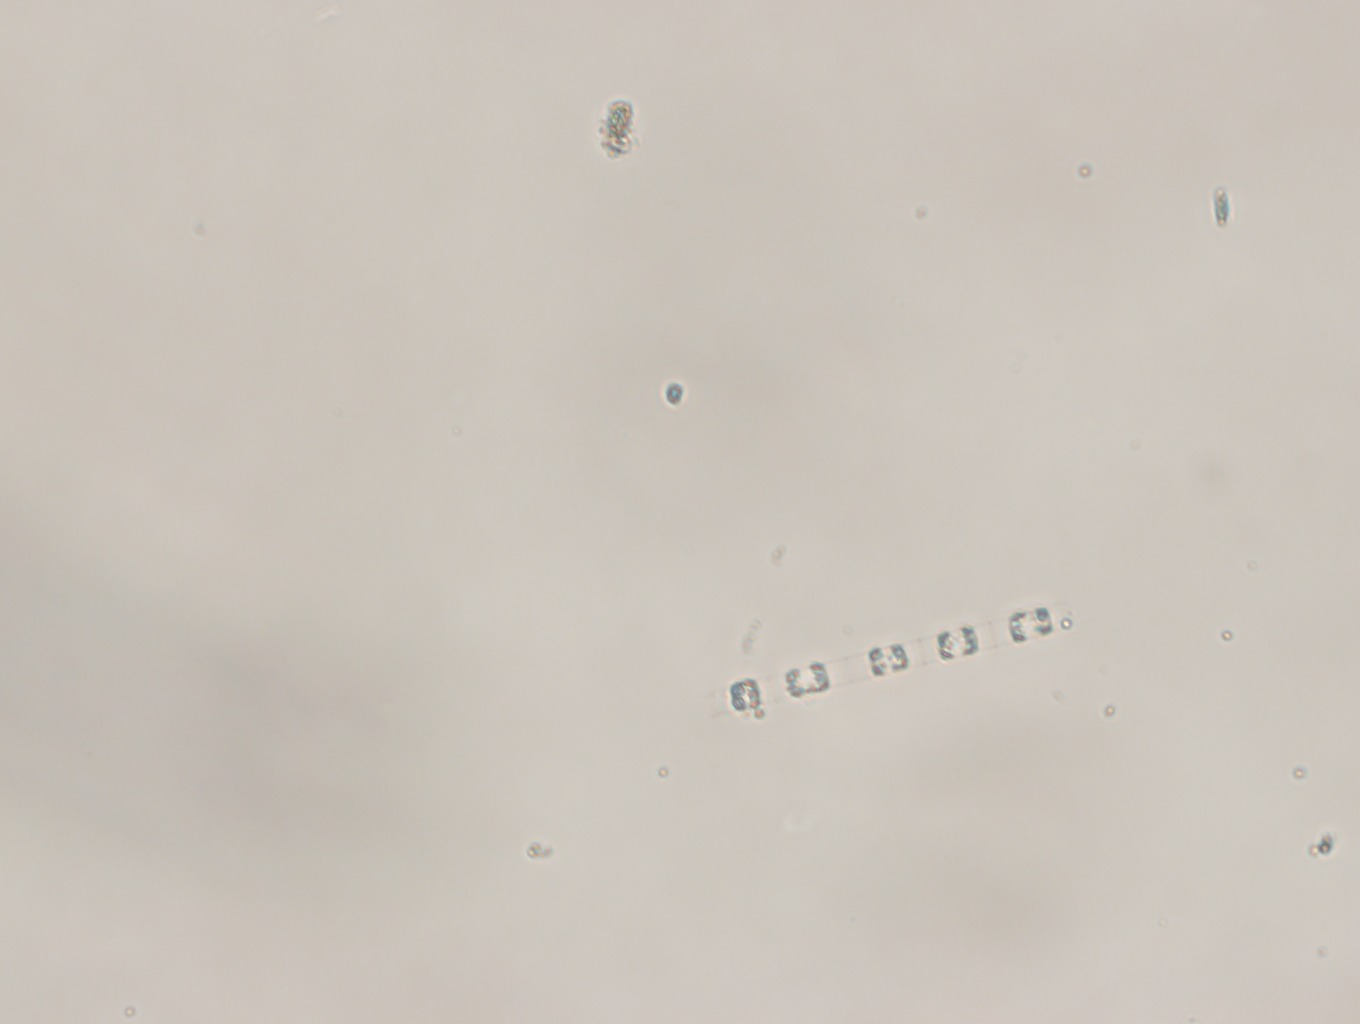skeletonema: (706, 597, 1110, 729)
